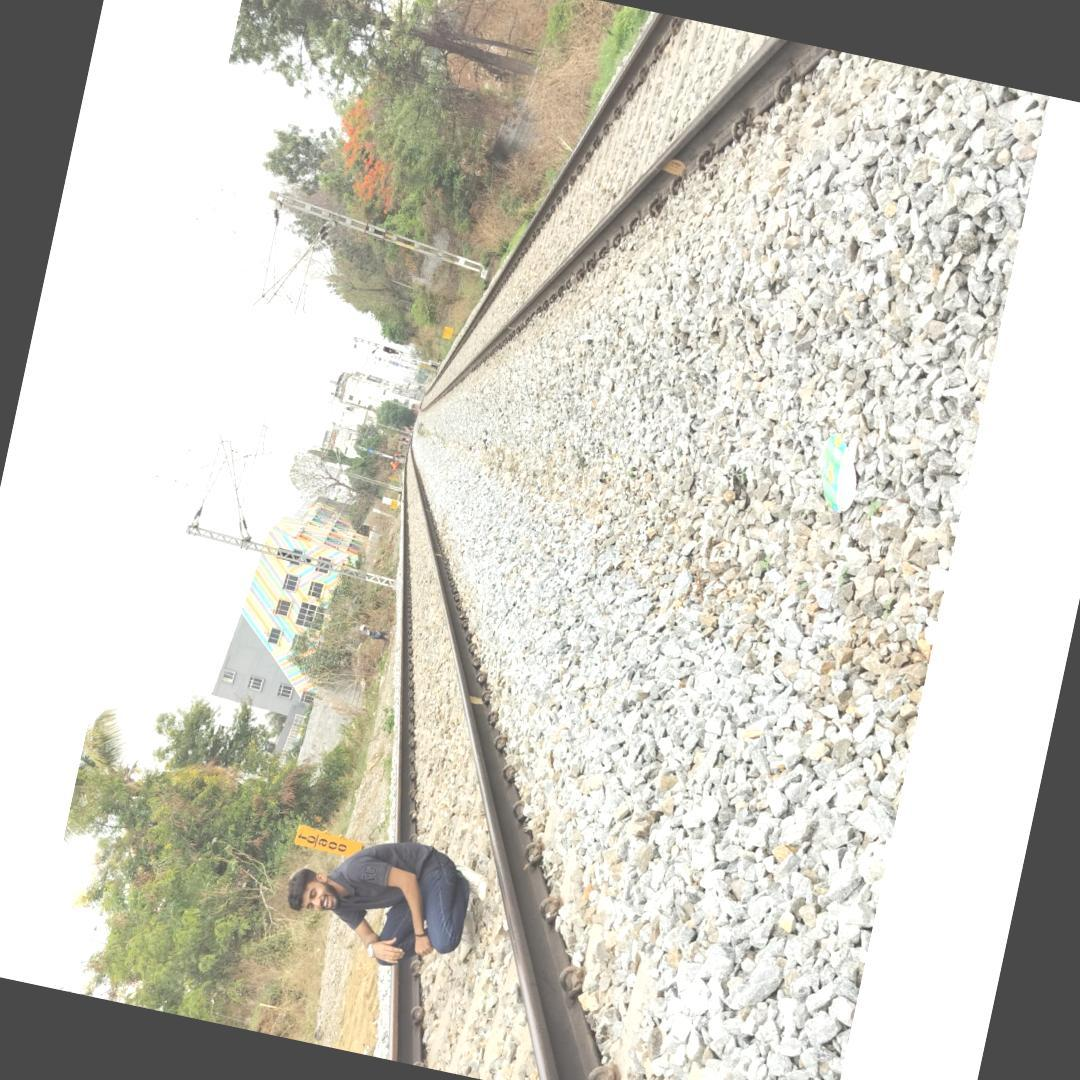sitting: (276, 798, 518, 1003)
track: (420, 7, 911, 425), (369, 442, 687, 1080)
